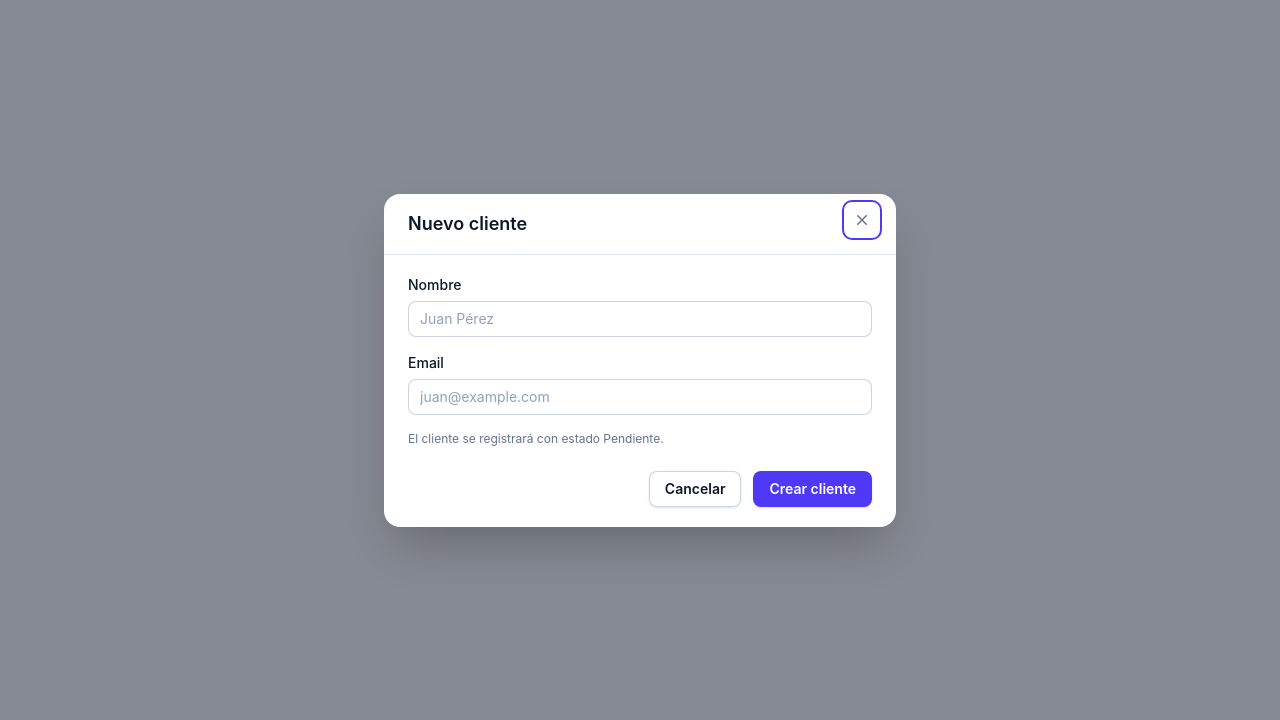
Test: CreateCustomerModal › shows non-field failures as a general message (AC-20)
Type "Ana López" into the field labelled "Nombre" at (640, 318), box [408, 300, 872, 336]
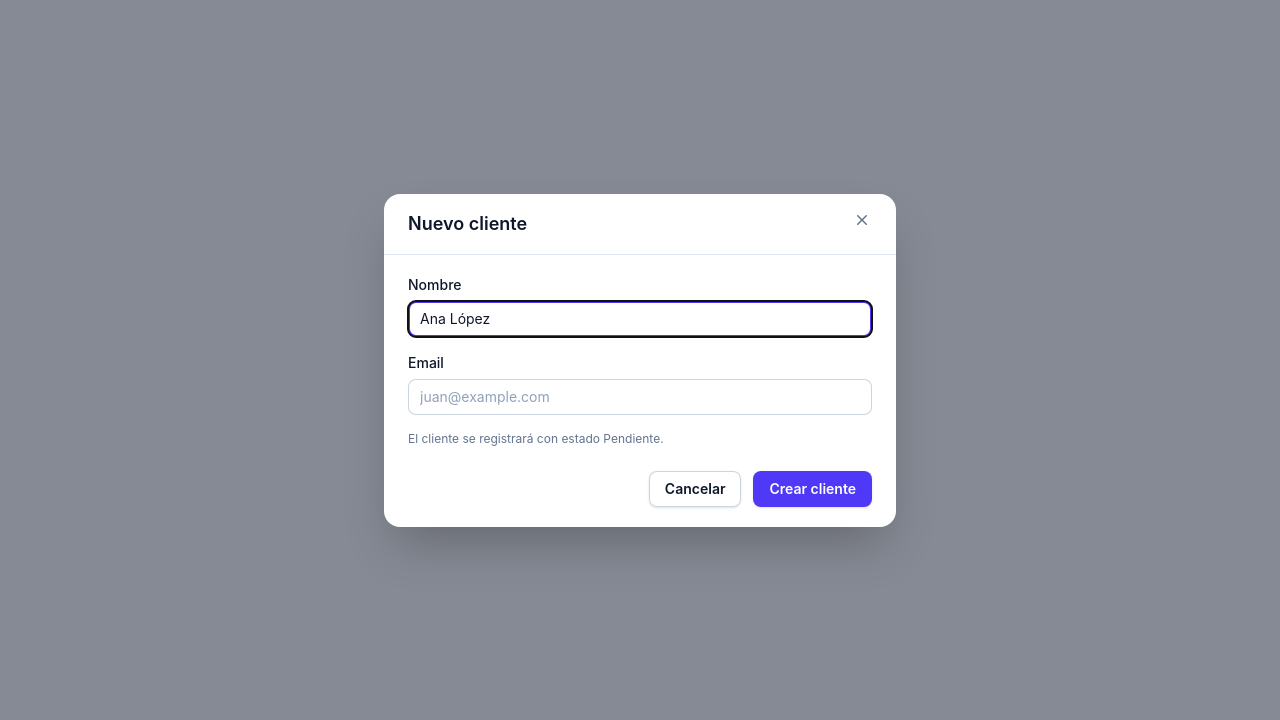
Type "ana@example.com" into the field labelled "Email" at (640, 396), box [408, 378, 872, 414]
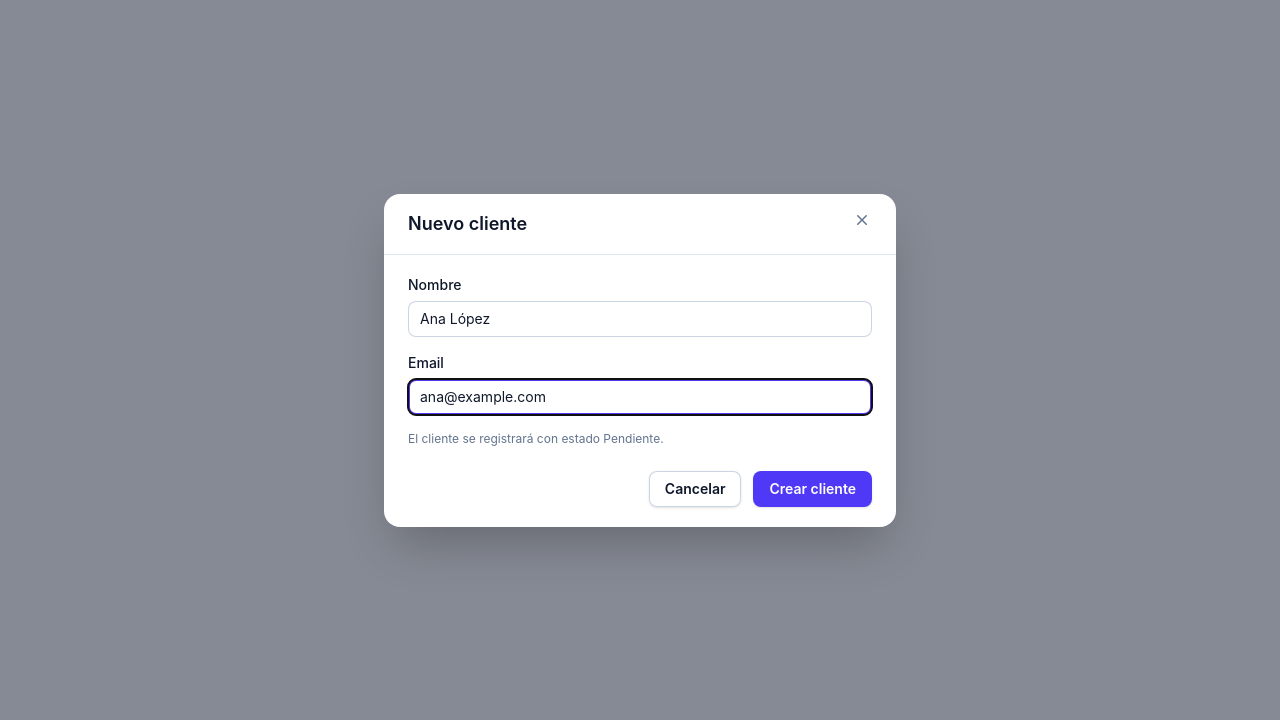
Click the button "Crear cliente" at (813, 488), box [754, 470, 872, 506]
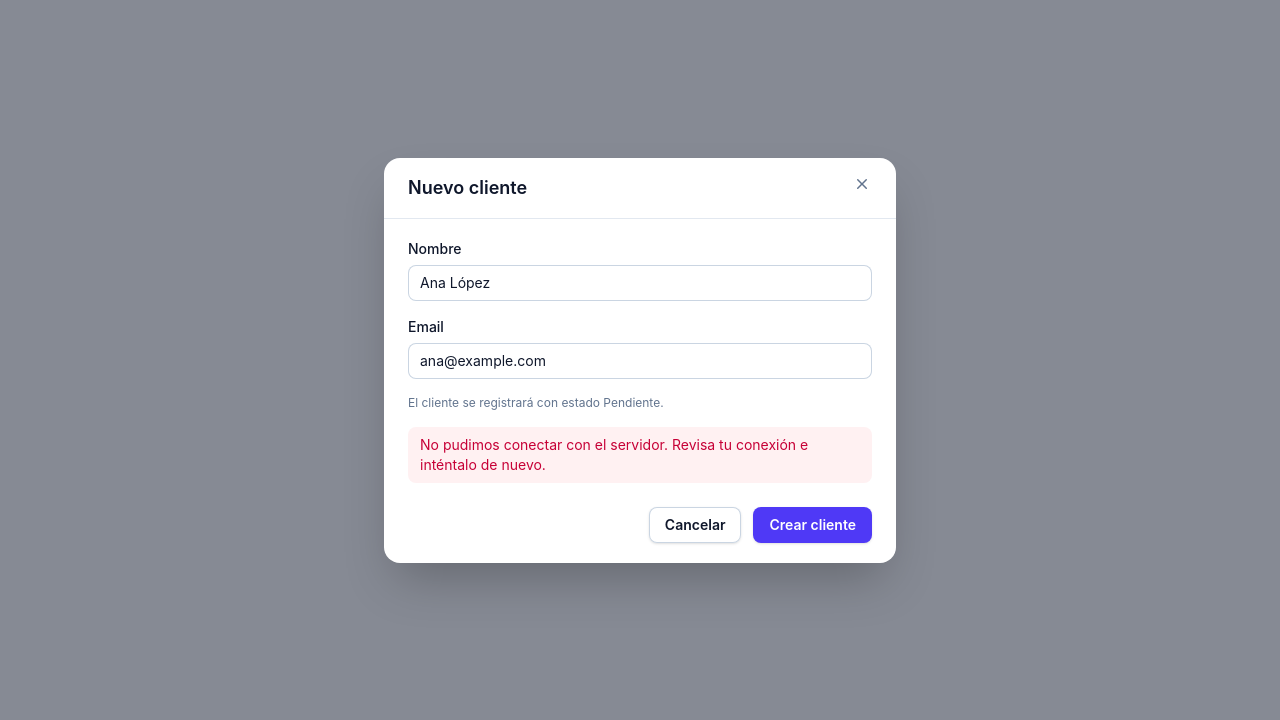
Expected: the message shows "conectar con el servidor", [420, 436, 808, 472]
